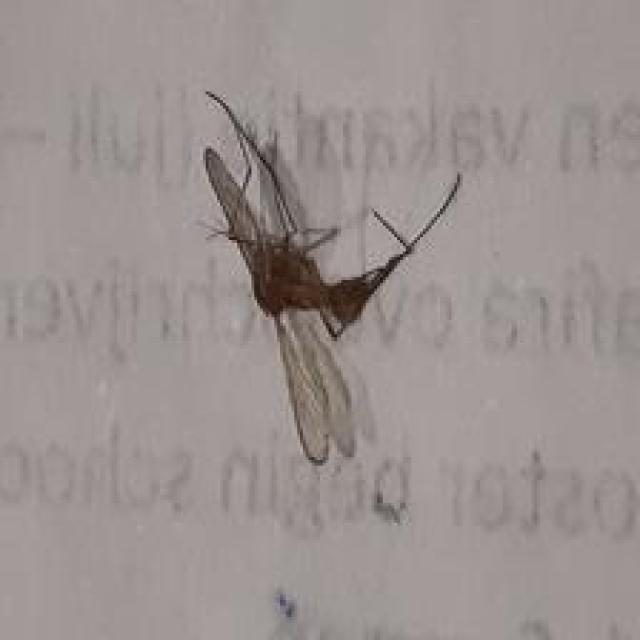Culex: (197, 88, 463, 466)
